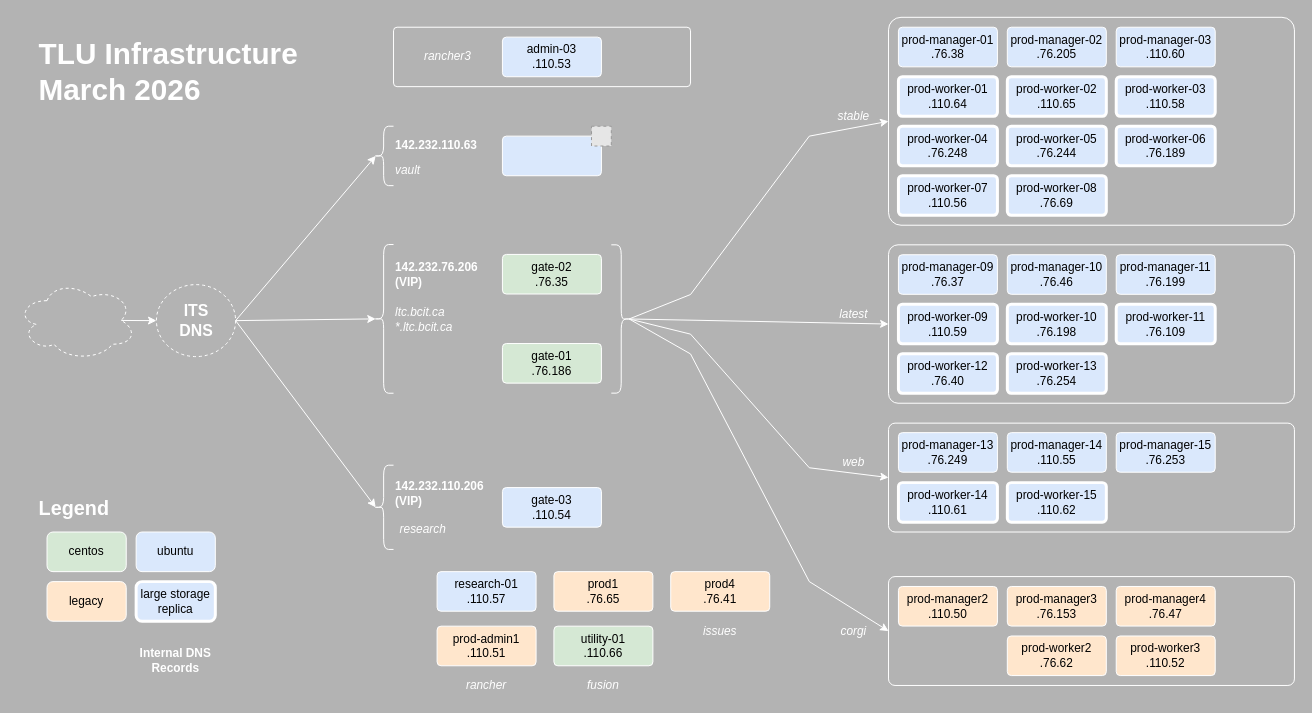
Some shapes in this 1312 by 713 pixel diagram are drawn without their labels. Grey dashed boxes stand in for pictures. The shapes that lost their labels are listed below. From the top down, each one's box as (x1, y1, x2, y2) in pixels, then its label:
(393, 26, 691, 87): cluster00
(888, 16, 1294, 225): cluster01
(501, 135, 601, 176): vault-02 .110.63
(16, 280, 136, 360): Internet
(888, 244, 1294, 403): cluster03
(888, 422, 1294, 532): cluster04
(888, 576, 1294, 685): legacy cluster
